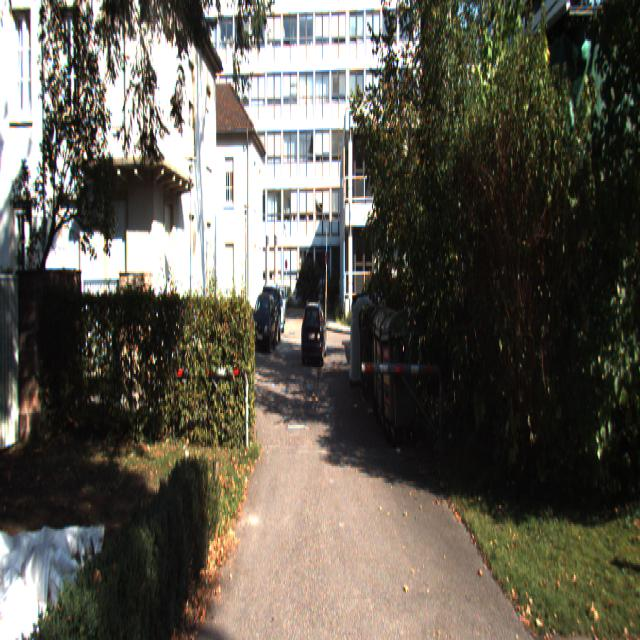Car: (300, 300, 328, 367), (250, 294, 277, 353), (259, 285, 282, 350)
